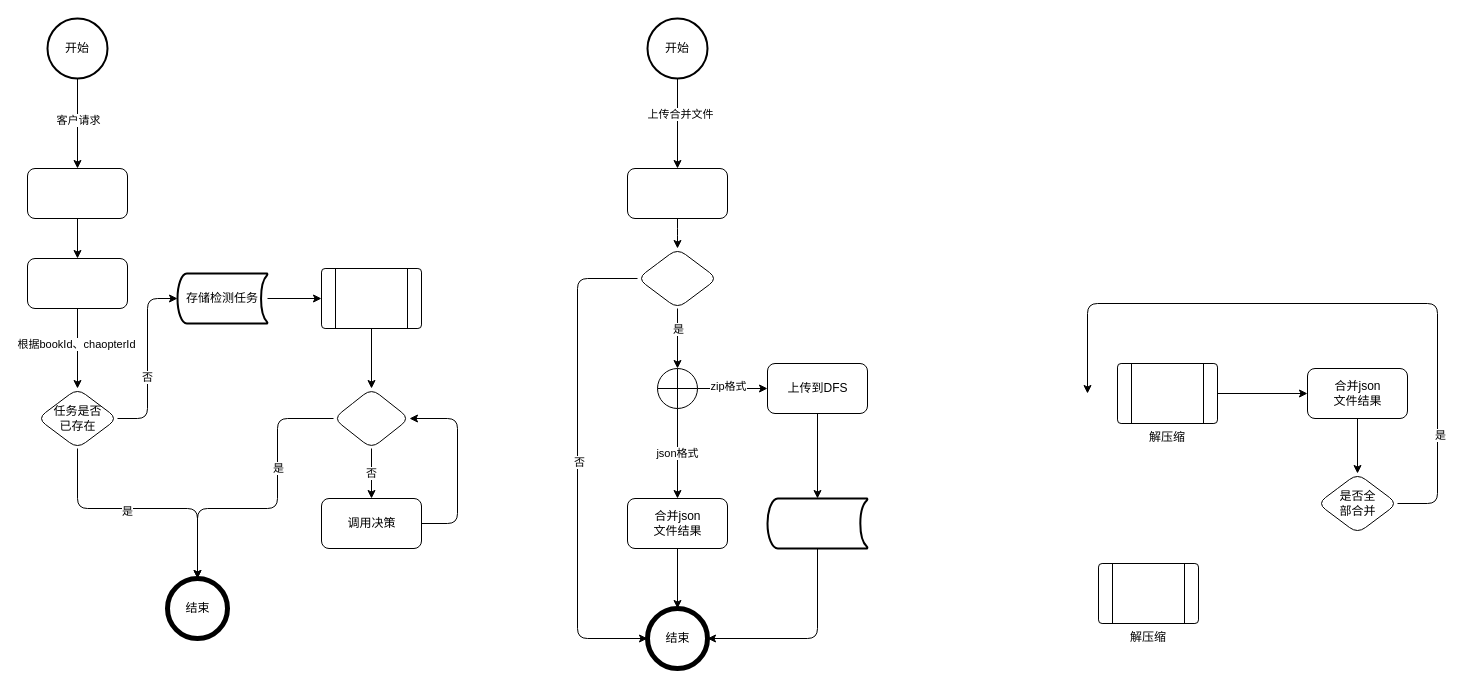
Image size: 1463x688. Some labels were removed from this diagram. Here are the shapes that lost their labels. From the top down, the centre of each, then its label:
[77,193]: 校验参数 处理json文本
[677,193]: 简单文件格式校验
[77,283]: 构建小说检测任务
[371,298]: 小说分片
[677,278]: 文件是 否符合
[371,418]: 是否全 部检测
[817,523]: FILEID存储到redis队列
